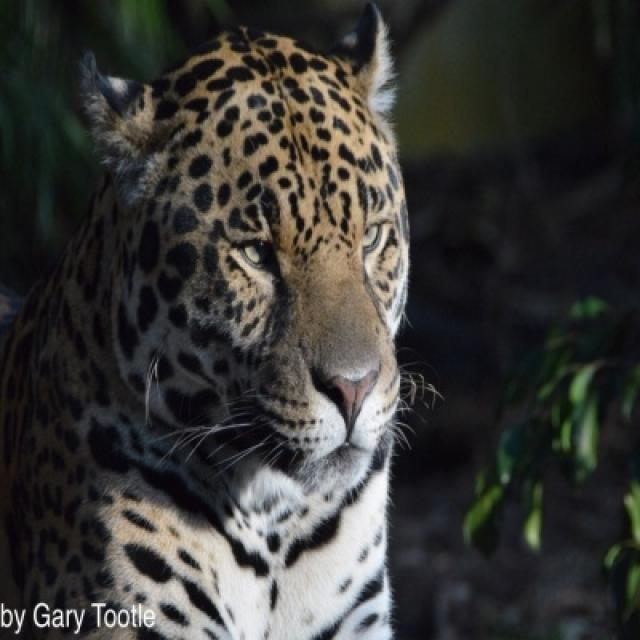Jaguar: (0, 3, 411, 638)
